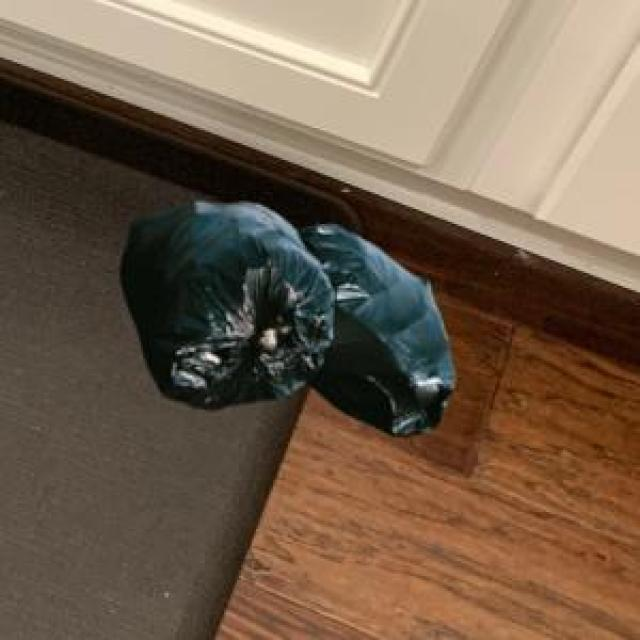Vinyl: (121, 202, 455, 434)
